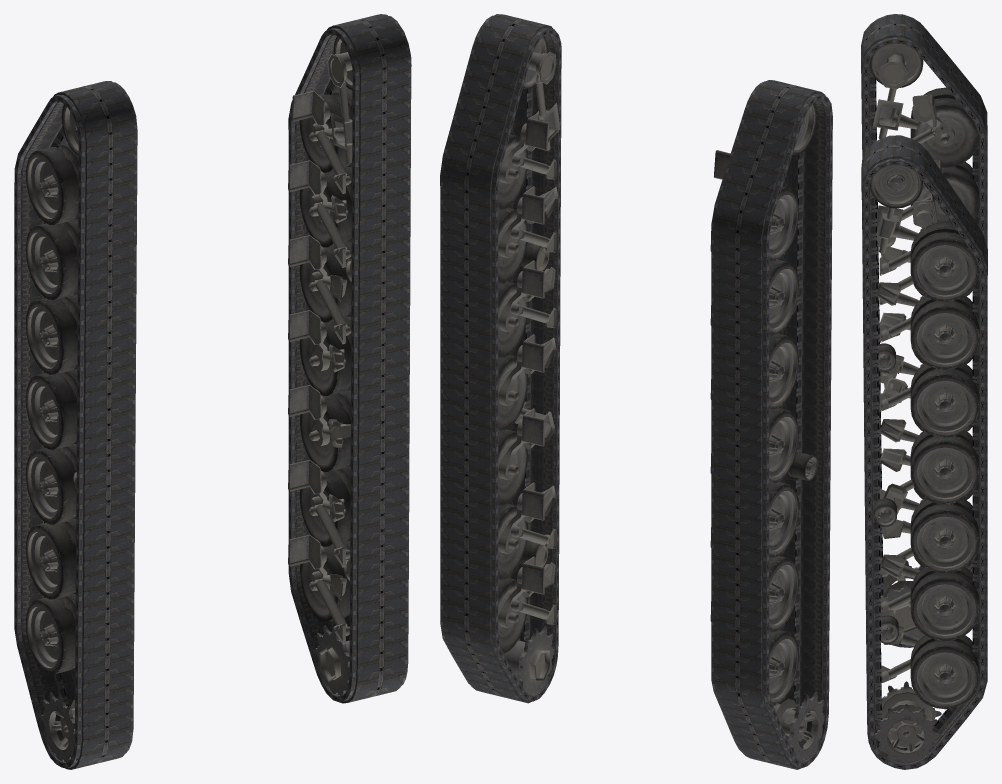
The model's file is Chassis.glb.
3 renders of one model, left to right at view 1: azimuth 30°, elevation 25°; view 2: azimuth 150°, elevation 25°; view 3: azimuth 270°, elevation 25°, orthographic. The views are drawn at different scales.
Parts seen in each view (by area): view 1: set_2_group_0, set_3_group_0, set_0_group_0, set_1_group_0; view 2: set_2_group_0, set_3_group_0, set_0_group_0, set_1_group_0; view 3: set_0_group_0, set_3_group_0, set_1_group_0, set_2_group_0.
Boxes of the visible parts, <box> form: set_2_group_0: <box>14,81,137,769</box>; set_3_group_0: <box>288,14,411,703</box>; set_0_group_0: <box>288,37,352,701</box>; set_1_group_0: <box>25,104,131,767</box>; set_2_group_0: <box>711,80,832,769</box>; set_3_group_0: <box>440,14,561,703</box>; set_0_group_0: <box>498,36,559,701</box>; set_1_group_0: <box>710,103,824,767</box>; set_0_group_0: <box>870,165,979,764</box>; set_3_group_0: <box>861,135,987,769</box>; set_1_group_0: <box>869,43,979,638</box>; set_2_group_0: <box>861,14,987,647</box>.
Size of the model in its own units: 3.24 by 6.35 by 1.19.
4 materials, 4 textured.
